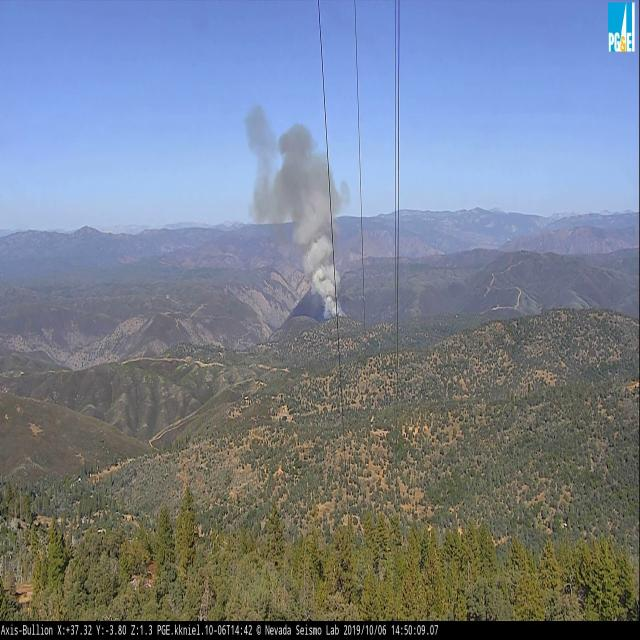smoke: (243, 96, 358, 324)
